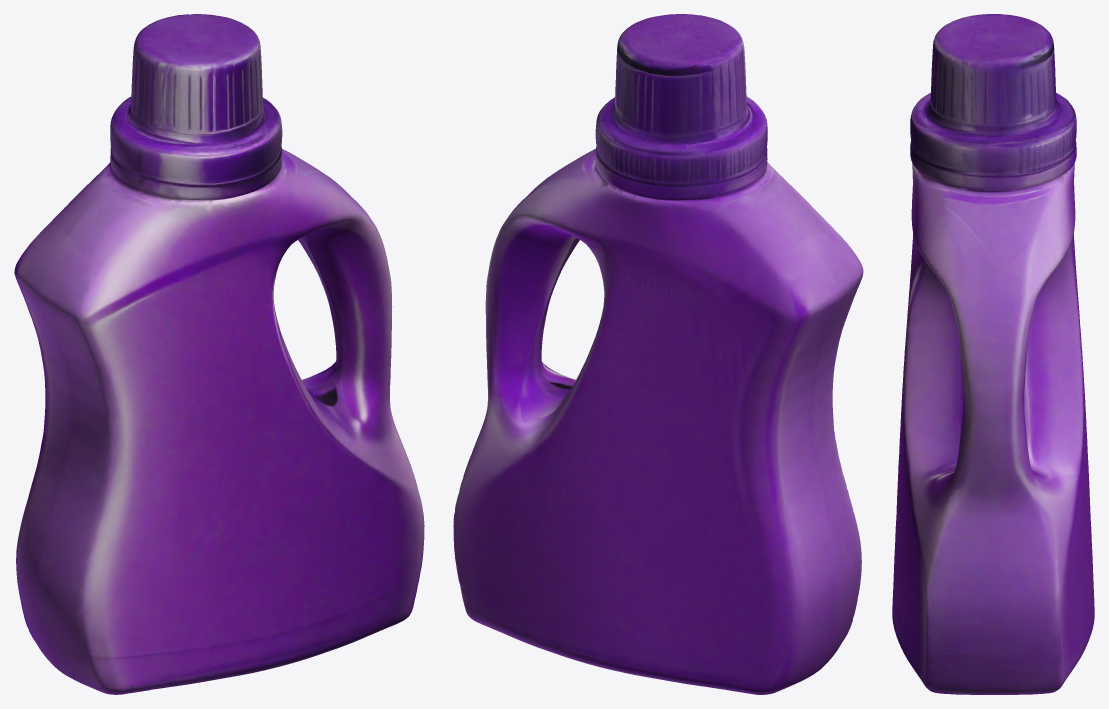
Rendered from detergent_washing_bot_1108162103_refine.fbx.
The picture shows the model from 3 angles, left to right: view 1: azimuth 30°, elevation 25°; view 2: azimuth 150°, elevation 25°; view 3: azimuth 270°, elevation 25°; orthographic projection. The views are drawn at different scales.
Parts seen in each view (by area): view 1: Mesh_0; view 2: Mesh_0; view 3: Mesh_0.
Part boxes in pixels (x1=…): Mesh_0: x1=14, y1=14, x2=424, y2=694; Mesh_0: x1=453, y1=14, x2=863, y2=694; Mesh_0: x1=892, y1=14, x2=1094, y2=694.
Bounding box in the file's own units: 124 × 200 × 63.53.
Materials: 1 (1 with a texture image).
